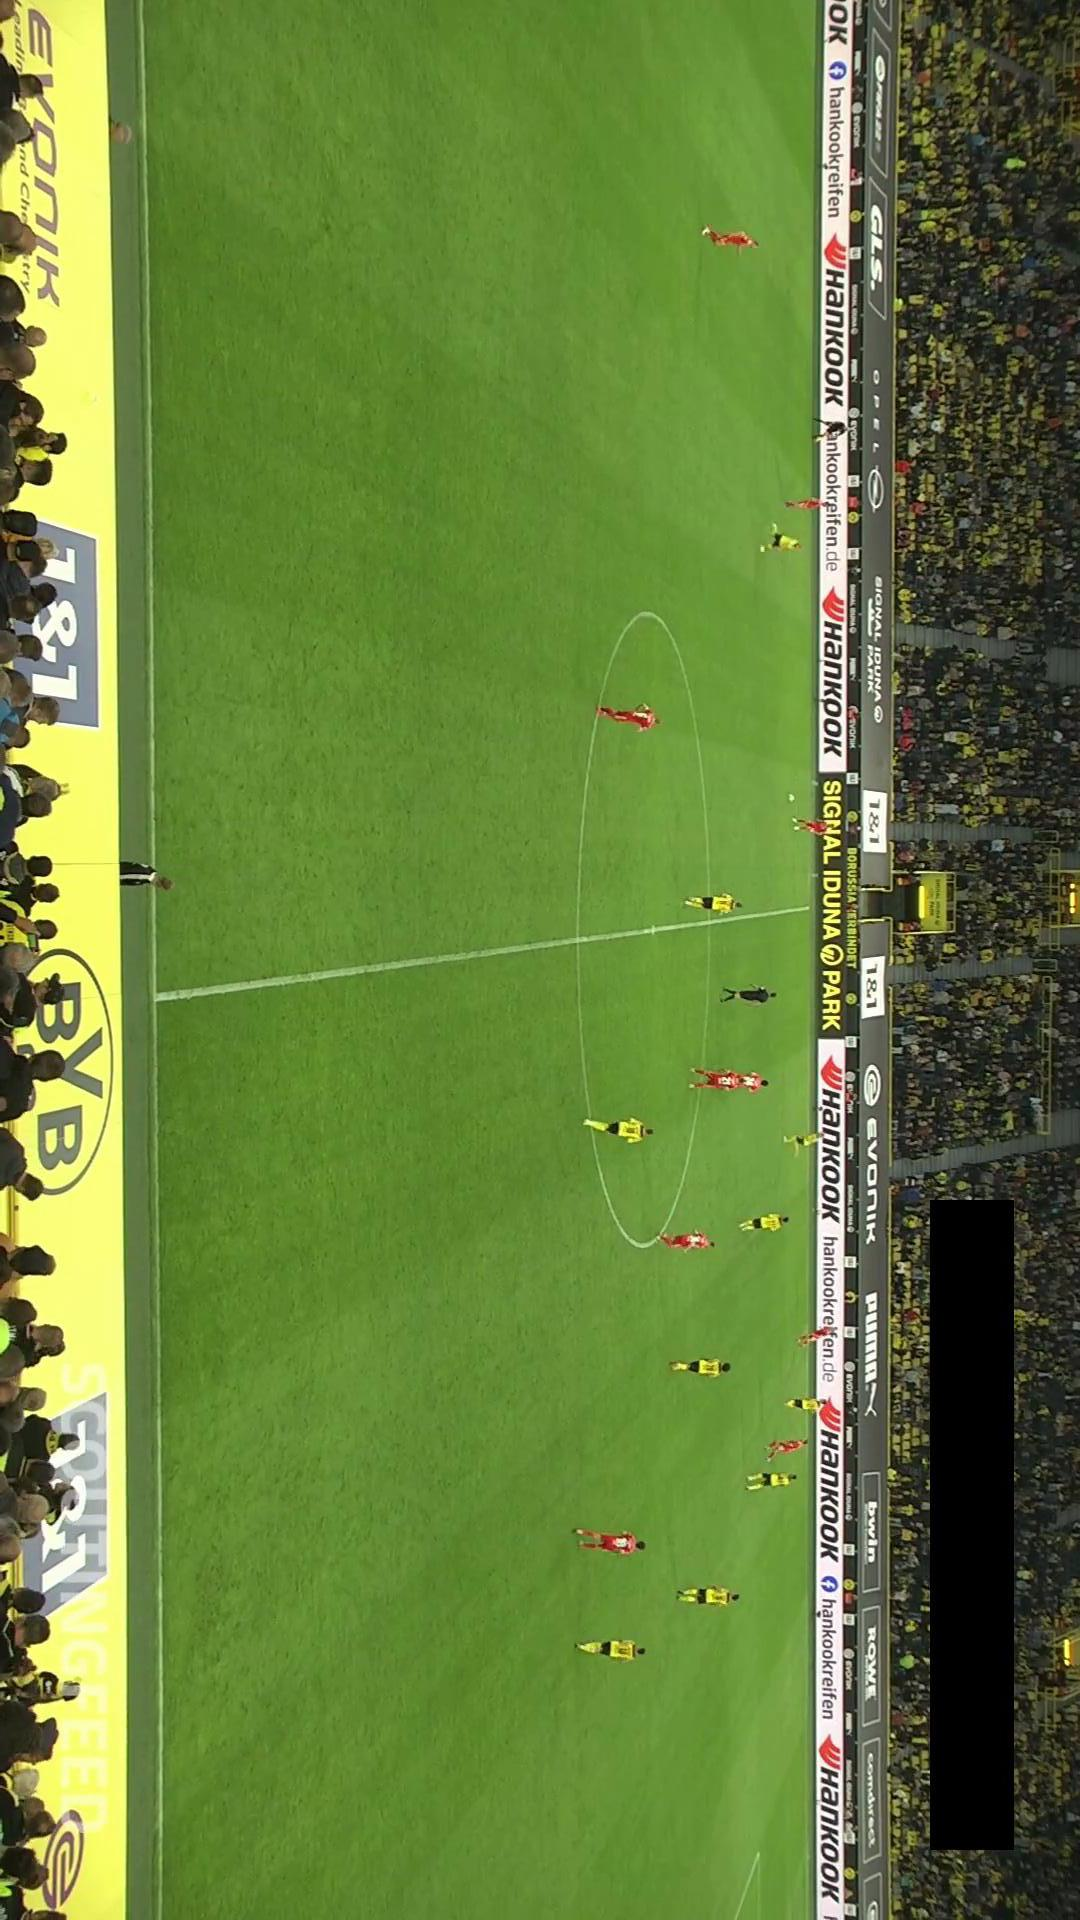ball: (784, 793, 795, 803)
player: (573, 1528, 647, 1556), (582, 1116, 655, 1144), (596, 703, 663, 732), (575, 1639, 647, 1663), (702, 224, 760, 251), (757, 521, 804, 553), (676, 1585, 741, 1608), (688, 1066, 747, 1091), (654, 1230, 716, 1252), (669, 1357, 732, 1378), (684, 893, 743, 914), (745, 1471, 799, 1491), (738, 1213, 790, 1233), (765, 1438, 809, 1461), (783, 1132, 822, 1154), (797, 1326, 837, 1347), (792, 817, 832, 835), (784, 1397, 828, 1413), (739, 1072, 770, 1093), (785, 498, 828, 511)
referee: (720, 984, 777, 1005), (812, 417, 851, 443)
